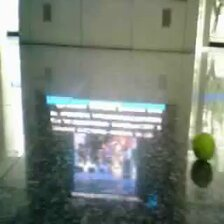tennis: (193, 134, 215, 159)
